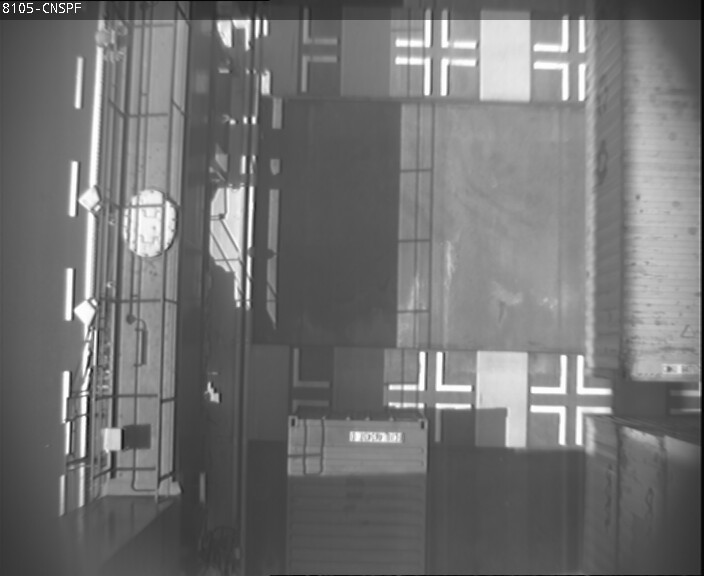groundmarker_1: (393, 8, 476, 51), (530, 355, 613, 398), (386, 402, 470, 444), (529, 403, 613, 445), (391, 56, 474, 98), (384, 350, 467, 392), (300, 4, 336, 91), (535, 14, 571, 101), (292, 349, 329, 414)
